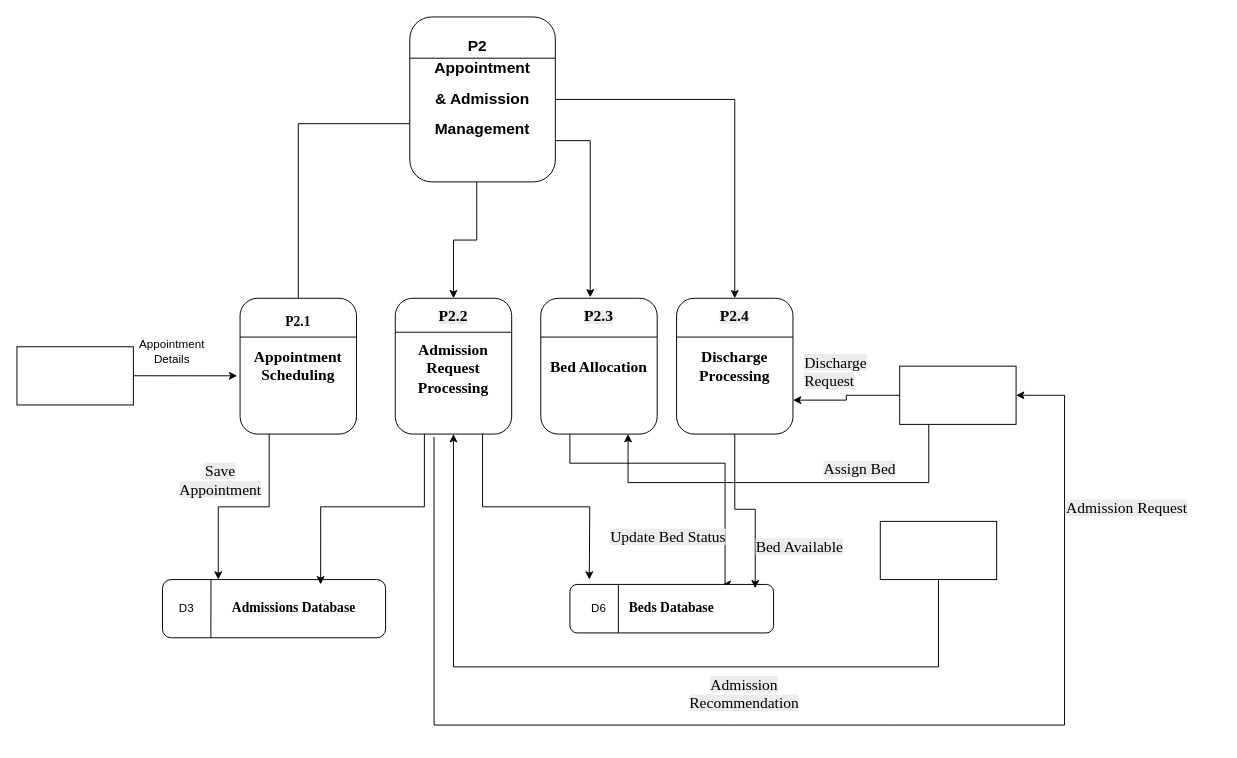
Image size: 1237x758. Some labels were removed from this diagram. Each missing label, with the centre of its shape:
Doctor: (x=938, y=550)
Patient: (x=74, y=375)
Receptionist: (x=957, y=394)
